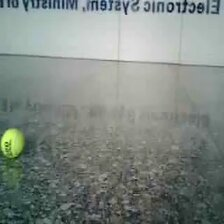tennis: (1, 128, 26, 159)
